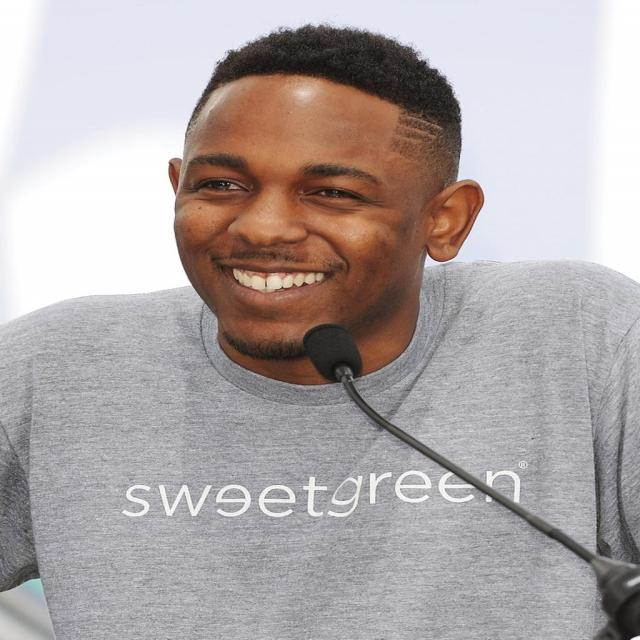nomask: (175, 80, 425, 355)
